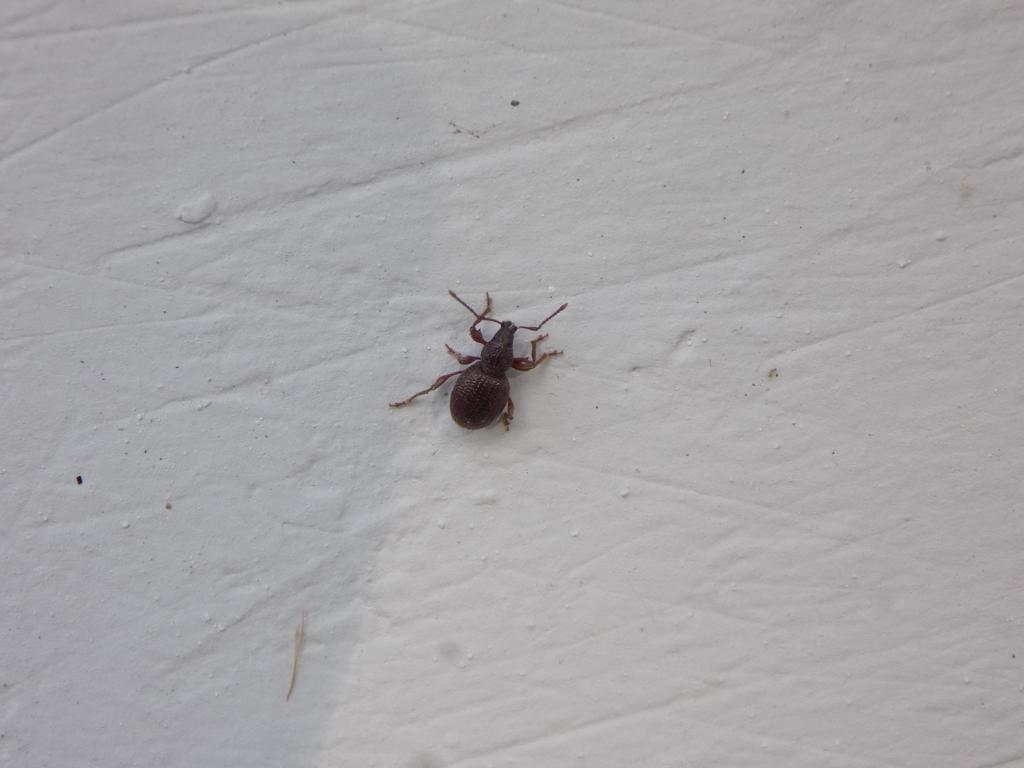weevils: (341, 249, 629, 490)
